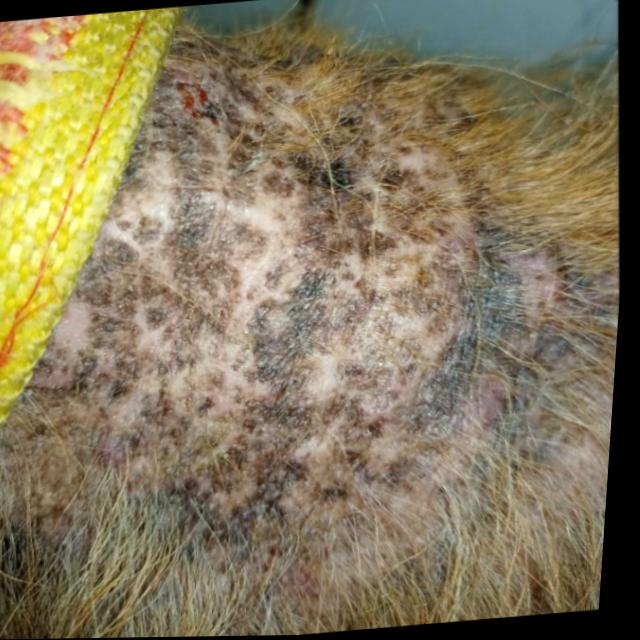demodicosis: (79, 74, 552, 537)
